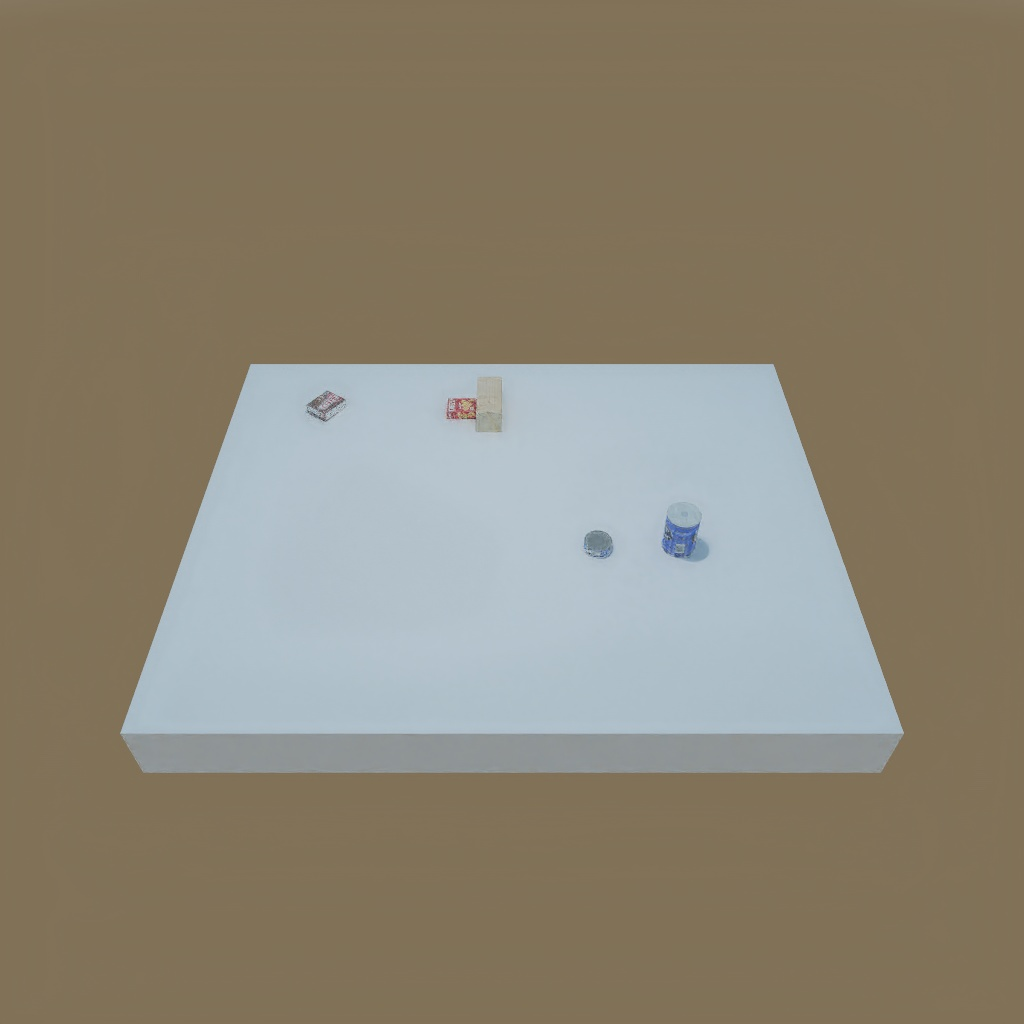master_chef_can: (661, 499, 703, 561)
pudding_box: (304, 386, 348, 420)
wood_block: (473, 370, 508, 440)
